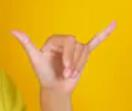clockwise: (8, 20, 120, 81)
